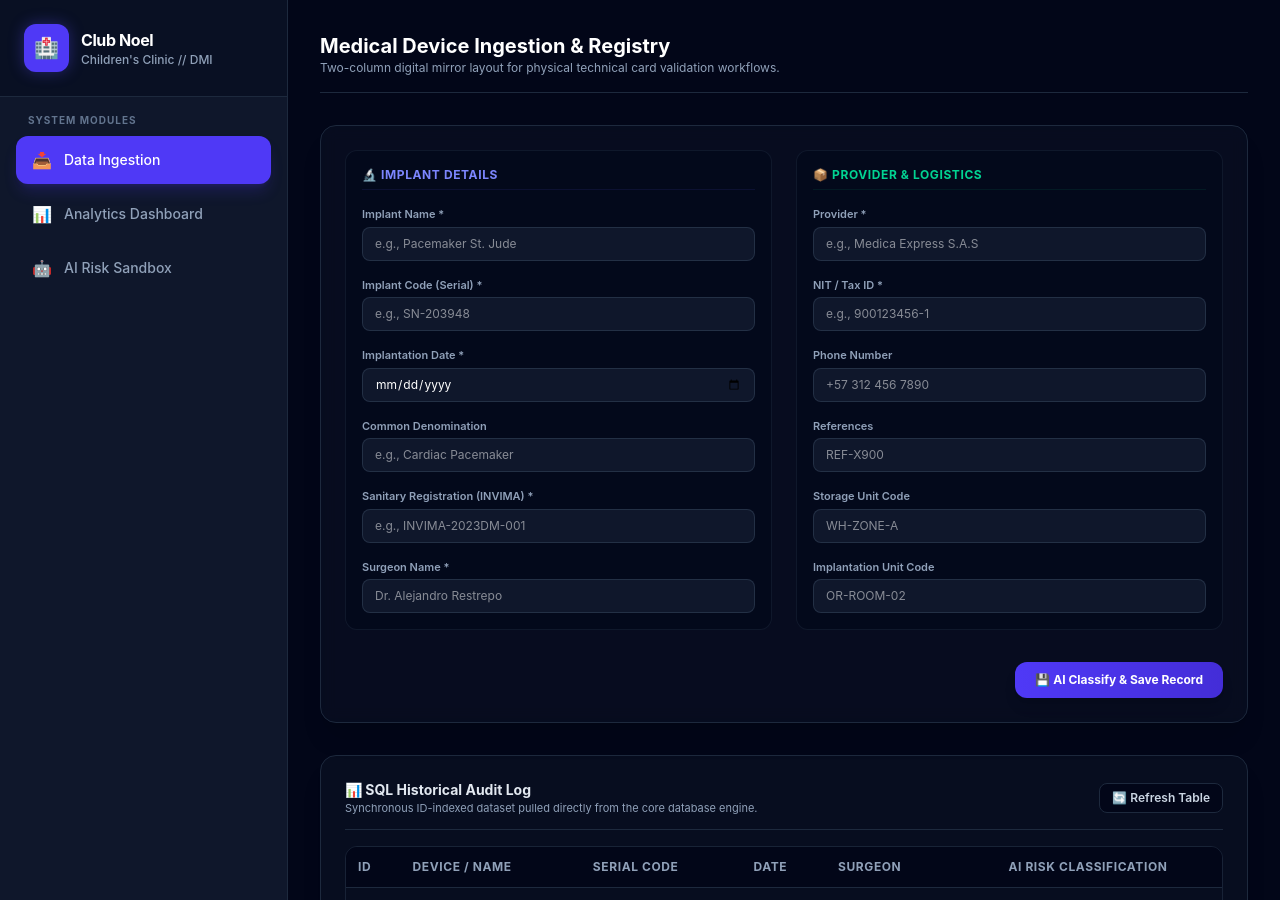
Test: Club Noel - Complete Frontend UI Integration Suite › 04 - navigates to AI Risk Sandbox when tab is clicked
Click the button "🤖 AI Risk Sandbox".
click(144, 268)  # box [16,244,271,292]
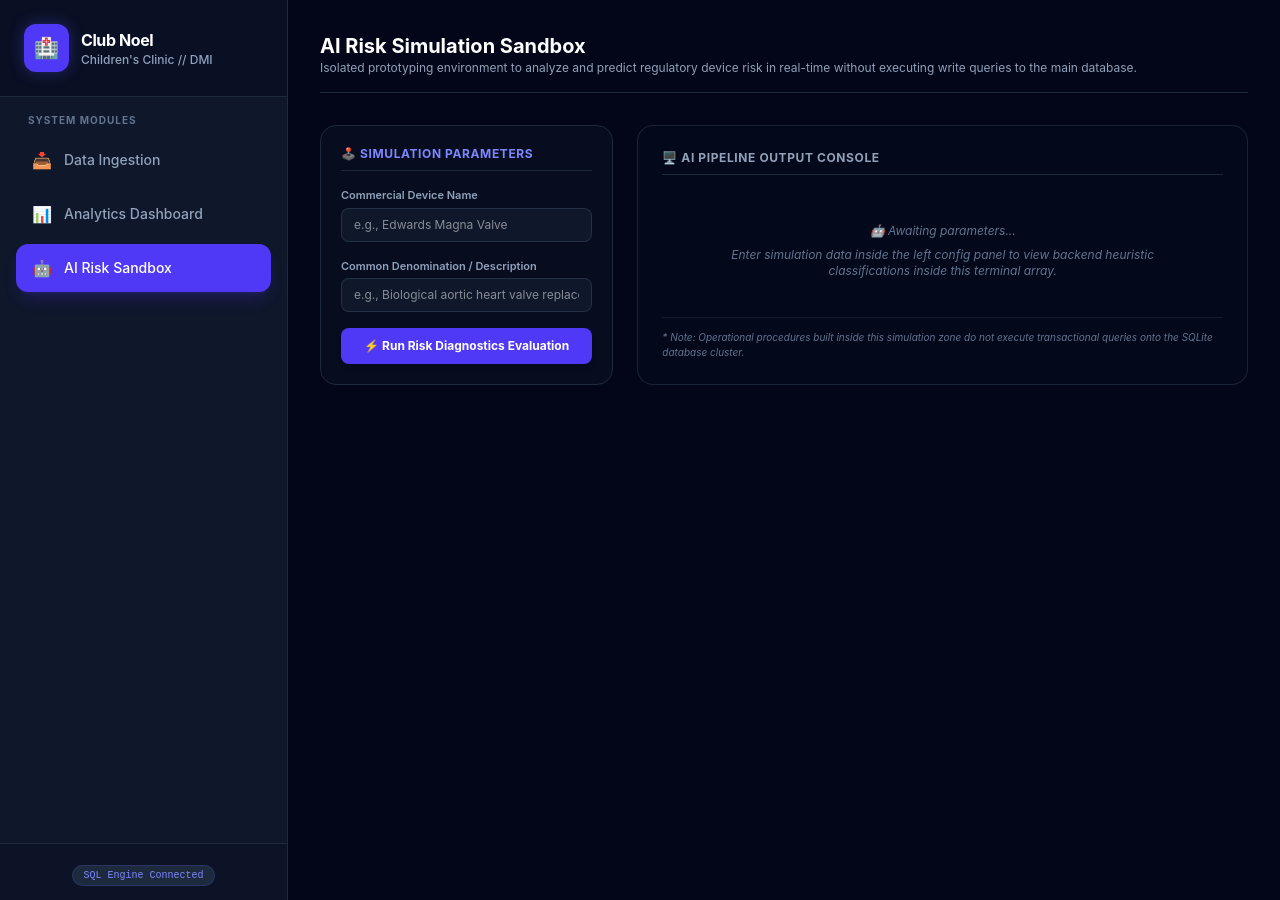
Now the heading "AI Risk Simulation Sandbox" is shown, box [320,34,586,58]
Now the heading "🕹️ Simulation Parameters" is shown, box [341,146,592,171]
